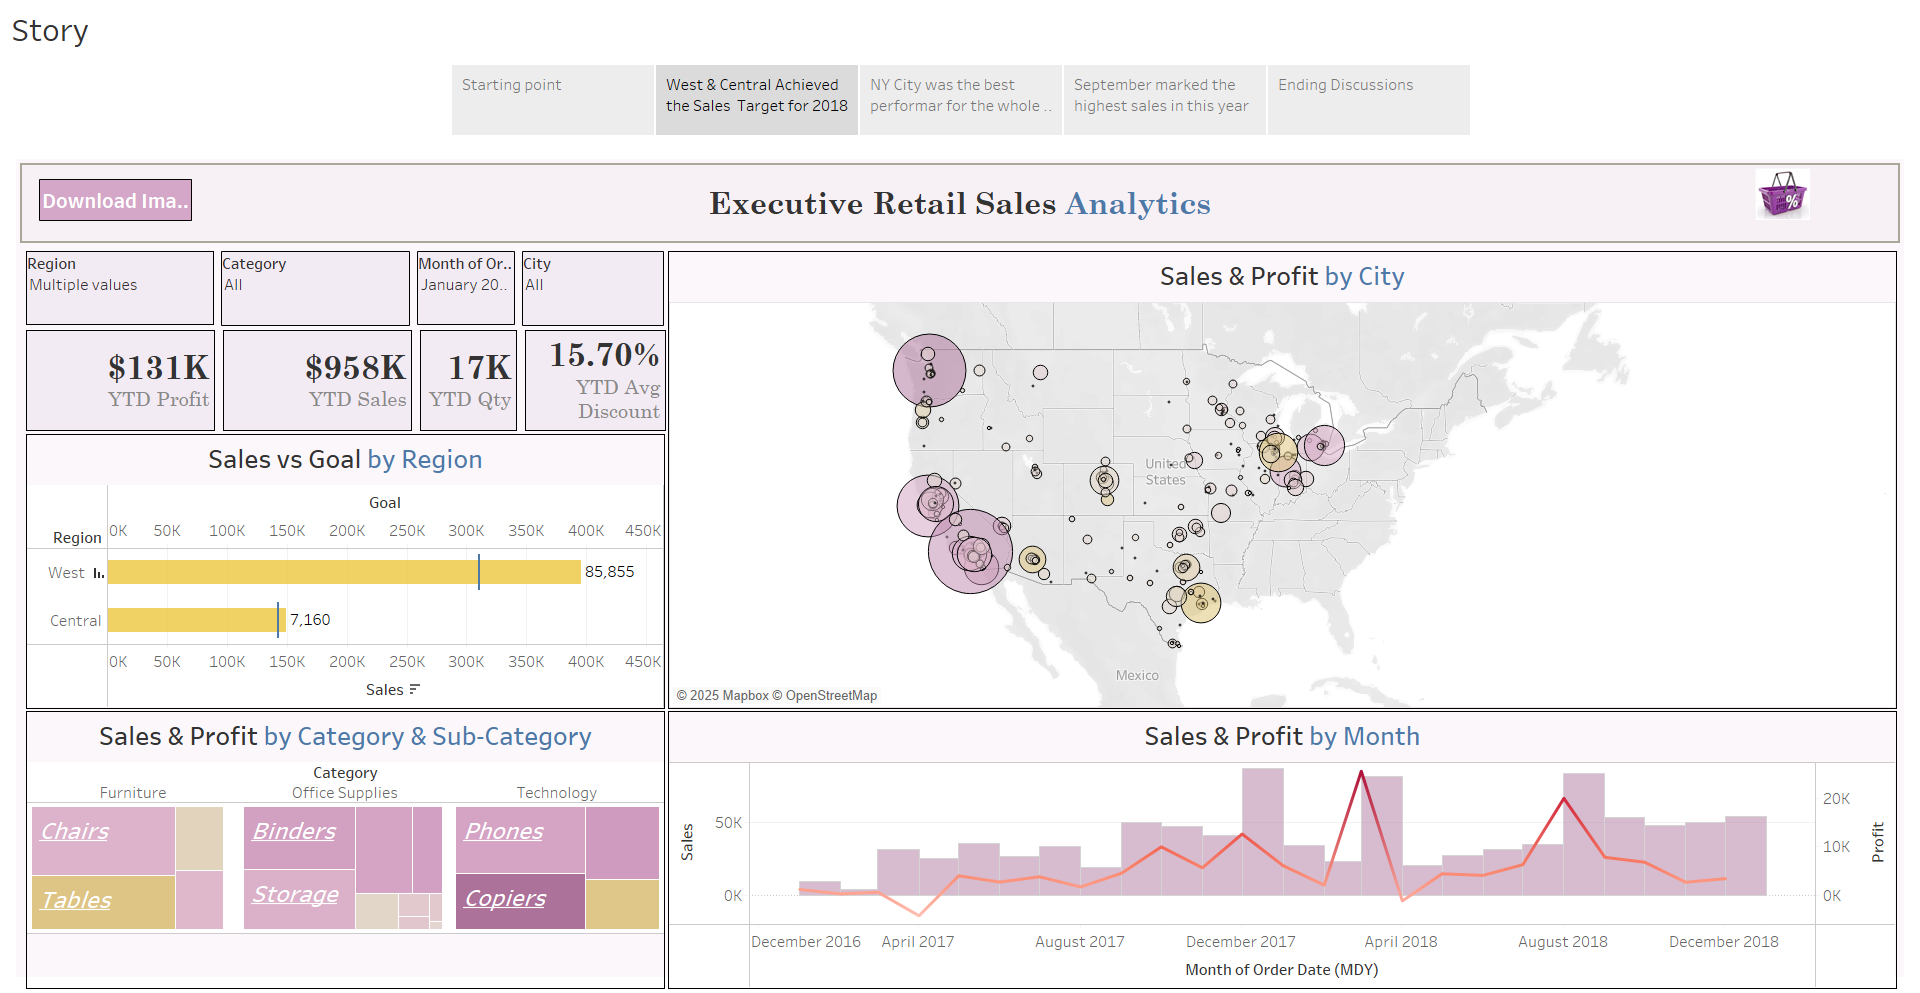

The page's visual inventory and layout, read from the dashboard file:
{"tool":"tableau","page":{"name":"Dashboard 1","canvas":[1000,1000],"units":"permille","ordinal":0},"visuals":[{"type":"title","box":[4.8,10,990.3,109.9]},{"type":"image","param":"Image/STORE.jpg","box":[906.2,20,51.4,62.4]},{"type":"dashboard-object","box":[16.3,33.7,80.3,49.9]},{"type":"filter","title":"Sheet 2","param":"[federated.0otv4zu1pa6xi91826qd8018jcip].[none:Region:nk]","box":[9.5,119.9,98.5,88.6]},{"type":"filter","title":"Sheet 3","param":"[federated.0otv4zu1pa6xi91826qd8018jcip].[none:Category:nk]","box":[111.8,119.9,99.6,89.9]},{"type":"filter","title":"Sheet 4","param":"[federated.0otv4zu1pa6xi91826qd8018jcip].[tmn:Order Date (MDY):qk]","box":[215,119.9,51.4,88.6]},{"type":"filter","title":"Sheet 5","param":"[federated.0otv4zu1pa6xi91826qd8018jcip].[none:City:nk]","box":[270.1,119.9,74.2,89.9]},{"type":"worksheet","title":"Sheet 5","mark":"Automatic","box":[346.4,119.9,645.7,549.3]},{"type":"worksheet","title":"Sheet 6 (2)","mark":"Automatic","box":[7.2,209.7,93.5,131.1]},{"type":"worksheet","title":"Sheet 6","mark":"Automatic","box":[100.8,209.7,93.5,131.1]},{"type":"worksheet","title":"Sheet 6 (3)","mark":"Automatic","box":[194.3,209.7,63.4,131.1]},{"type":"worksheet","title":"Sheet 6 (4)","mark":"Automatic","box":[257.7,209.7,89.9,131.1]},{"type":"worksheet","title":"Sheet 2","mark":"Automatic","rows":["Region"],"cols":["Sales","Goal"],"box":[9.7,339.6,335.6,329.6]},{"type":"worksheet","title":"Sheet 3","mark":"Automatic","cols":["Category"],"box":[9.7,671.7,335.6,333.3]},{"type":"worksheet","title":"Sheet 4","mark":"Automatic","rows":["Sales","Profit"],"cols":["Order Date (MDY)"],"box":[346.4,671.7,645.8,333.3]}]}

Visuals, with their boxes on the dashboard's canvas, which has no fixed pixel size, in thousandths of its width and height (x1, y1, x2, y2). These are canvas units, not pixel positions in the 1920x993 screenshot, which may show the page scaled, cropped or inside an application window:
title: 5,10,995,120
image: 906,20,958,82
dashboard-object: 16,34,97,84
"Sheet 2" filter: 10,120,108,208
"Sheet 3" filter: 112,120,211,210
"Sheet 4" filter: 215,120,266,208
"Sheet 5" filter: 270,120,344,210
"Sheet 5" worksheet: 346,120,992,669
"Sheet 6 (2)" worksheet: 7,210,101,341
"Sheet 6" worksheet: 101,210,194,341
"Sheet 6 (3)" worksheet: 194,210,258,341
"Sheet 6 (4)" worksheet: 258,210,348,341
"Sheet 2" worksheet: 10,340,345,669
"Sheet 3" worksheet: 10,672,345,1005
"Sheet 4" worksheet: 346,672,992,1005
